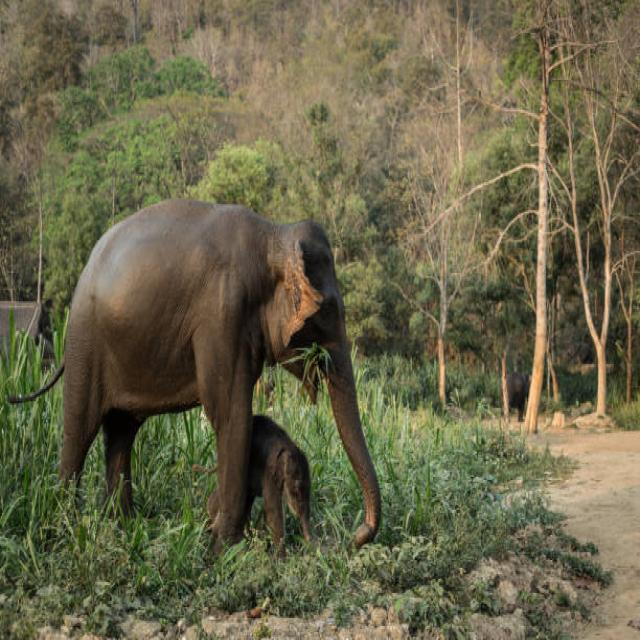Elephant: (32, 187, 406, 552), (232, 405, 326, 566)
